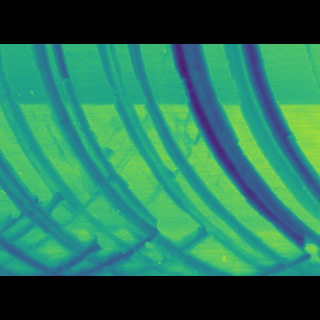Loch: (95, 75, 294, 238), (165, 75, 319, 233), (26, 75, 159, 220), (219, 75, 320, 202), (0, 151, 93, 241)
